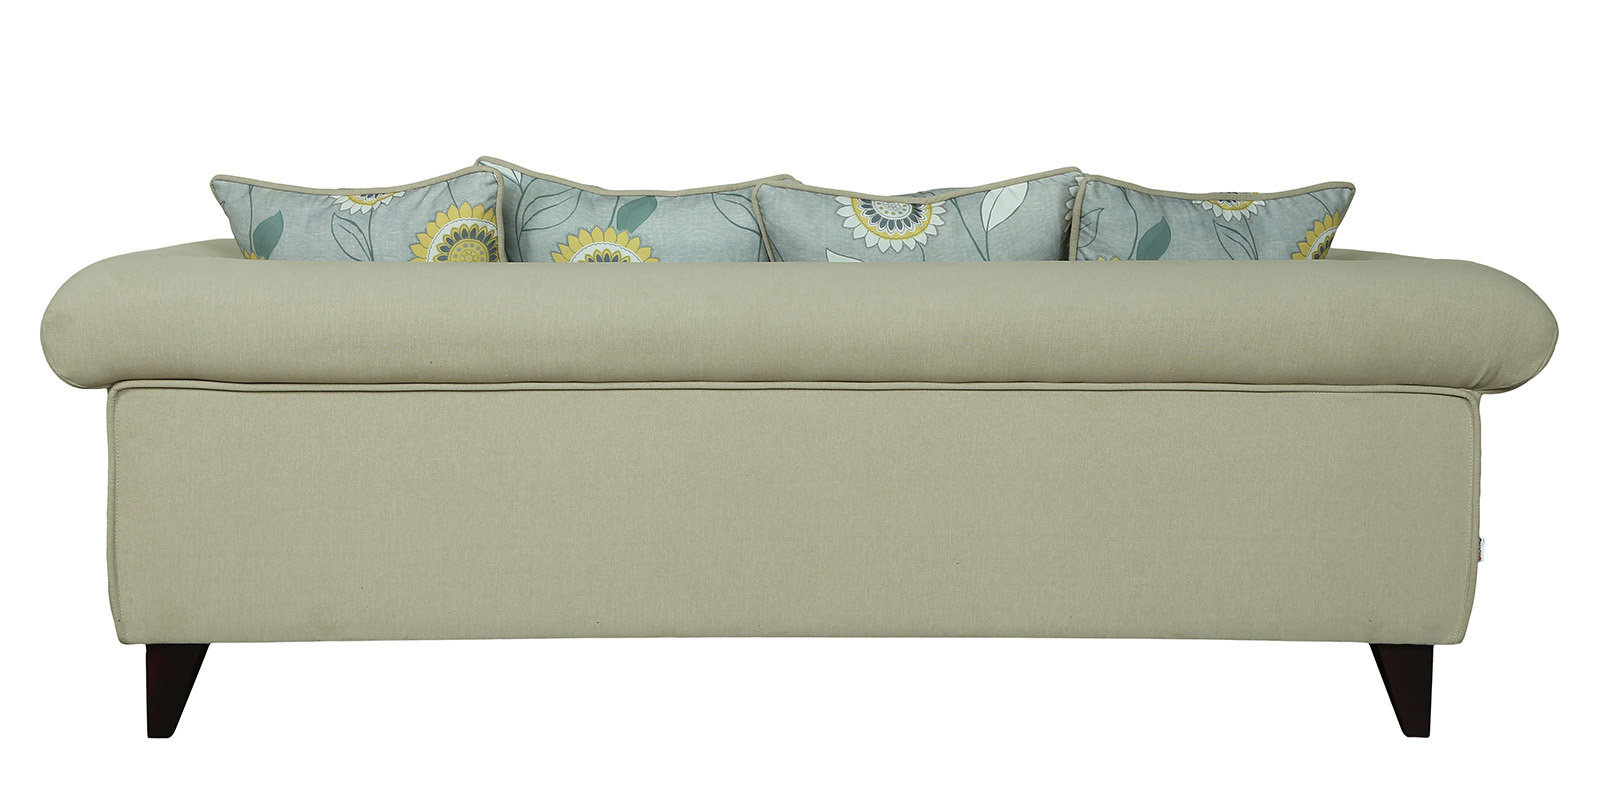Cielo Three Seater Sofa in Beige Colour by CasaCraft: (26, 170, 1565, 777)
